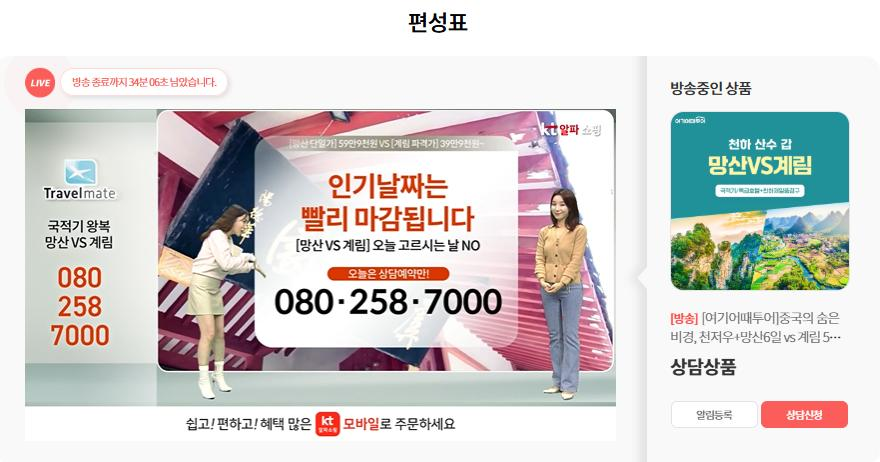button: (671, 403, 756, 425), (765, 402, 839, 427)
